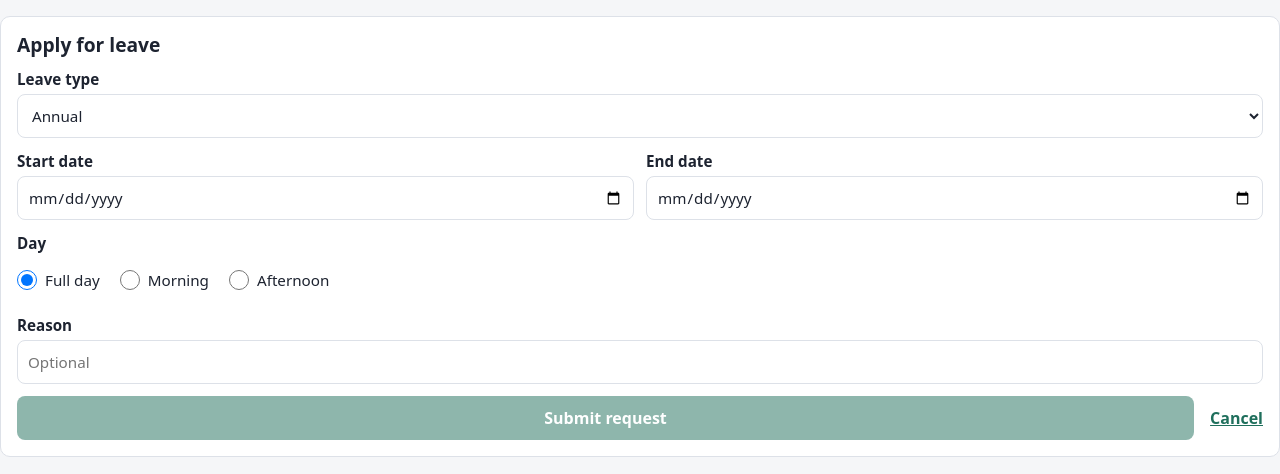
ApplyLeaveForm › Cancel clears the draft, sends nothing, and asks to go back to My requests
Type "2026-10-05" into the date field labelled "Start date" at (326, 198), box [17,176,634,220]
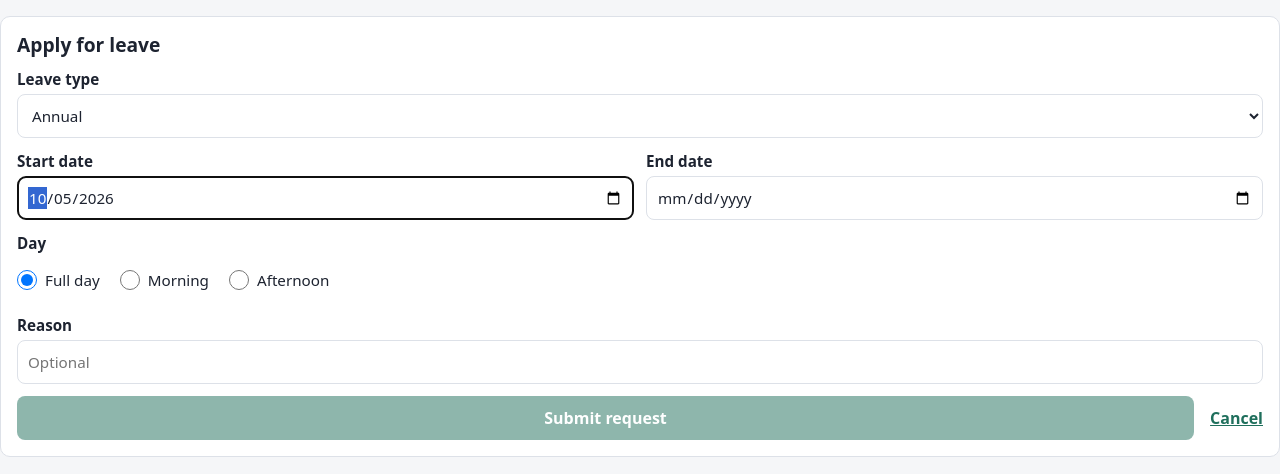
Type "Changed my mind" into the field labelled "Reason" at (640, 362), box [17,340,1263,384]
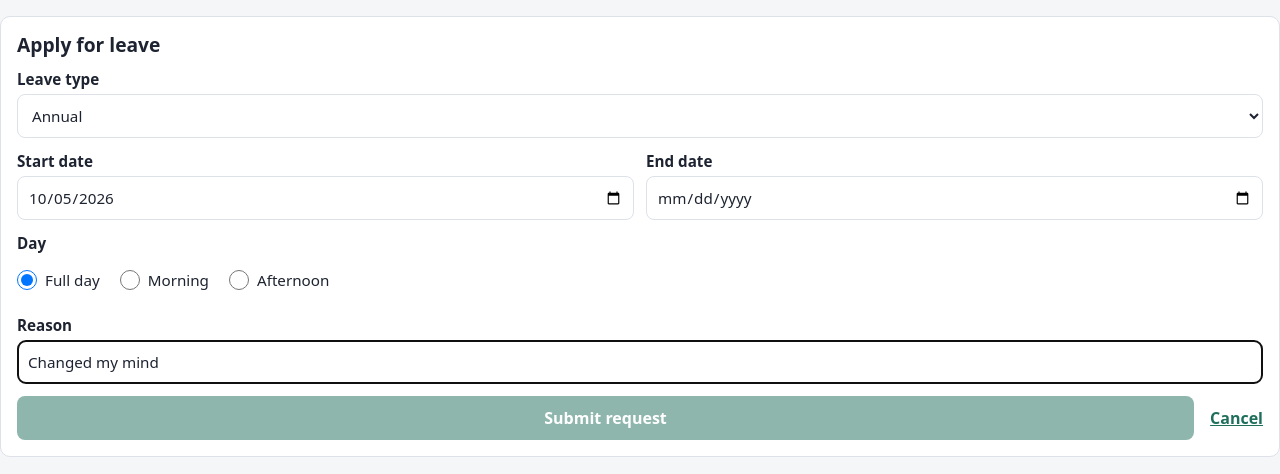
Click the button "Cancel" at (1237, 418), box [1210,396,1263,440]
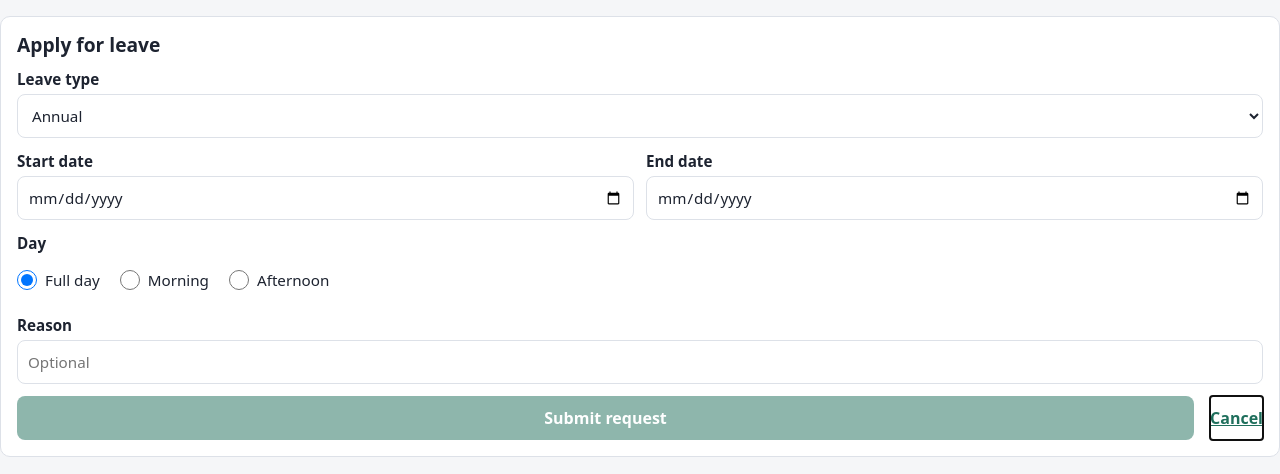
Expected: the date field labelled "Start date" is empty, [17,176,634,220]
Expected: the field labelled "Reason" is empty, [17,340,1263,384]
